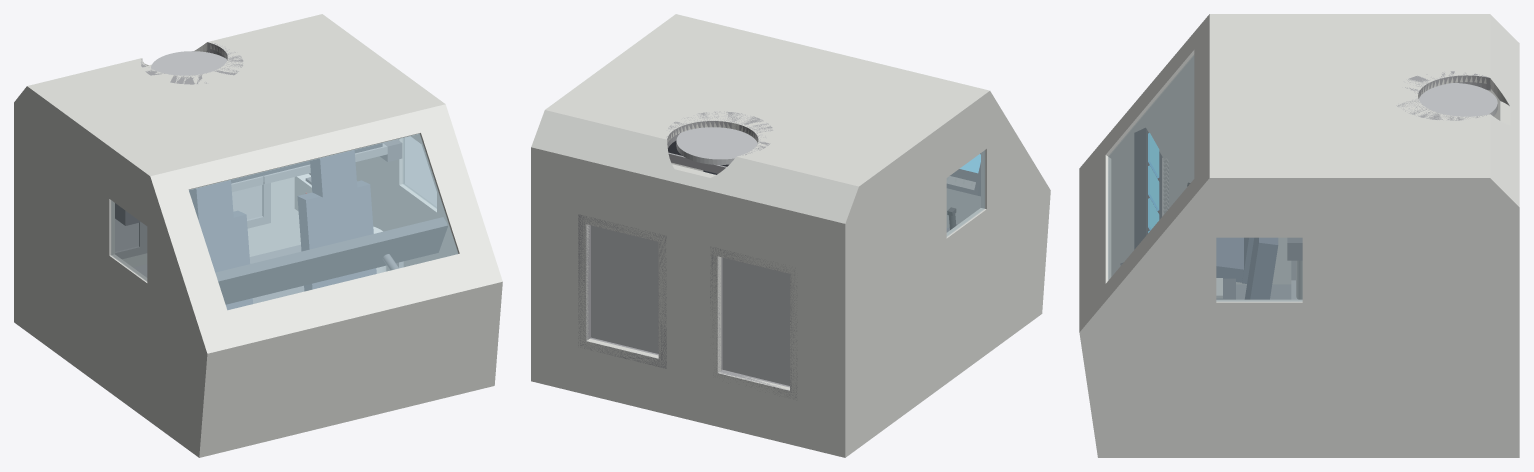
File: rover24_pressurised_cab_m_interior.glb
The picture shows the model from 3 angles, left to right: view 1: azimuth 30°, elevation 25°; view 2: azimuth 150°, elevation 25°; view 3: azimuth 270°, elevation 25°; orthographic projection. The views are drawn at different scales.
Parts seen in each view (by area): view 1: pressure_vessel, window_glass_inner, dash_panel, seat_1, seat_2, hatch_door_3, eq44_1_board, hatch_door_1, hatch_tunnel_3, deck_floor, eq44_1_end_brackets, hatch_door_2 (+1 smaller); view 2: pressure_vessel, hatch_door_1, hatch_door_2, hatch_tunnel_1, hatch_door_3, window_glass_inner, hatch_tunnel_2, hatch_tunnel_3; view 3: pressure_vessel, window_glass_inner, hatch_door_3, dash_panel, seat_1, seat_2, hatch_tunnel_3, dash_panel_screens, deck_floor.
Part boxes in pixels (bbox=[...]): pressure_vessel: bbox=[14, 14, 502, 457]; window_glass_inner: bbox=[111, 133, 458, 309]; dash_panel: bbox=[215, 217, 447, 304]; seat_1: bbox=[297, 150, 376, 291]; seat_2: bbox=[189, 180, 252, 309]; hatch_door_3: bbox=[151, 51, 226, 75]; eq44_1_board: bbox=[231, 143, 387, 191]; hatch_door_1: bbox=[232, 185, 262, 219]; hatch_tunnel_3: bbox=[141, 42, 243, 84]; deck_floor: bbox=[249, 244, 304, 303]; eq44_1_end_brackets: bbox=[115, 139, 402, 225]; hatch_door_2: bbox=[115, 219, 138, 251]; pressure_vessel: bbox=[531, 14, 1050, 457]; hatch_door_1: bbox=[591, 225, 658, 353]; hatch_door_2: bbox=[722, 257, 789, 385]; hatch_tunnel_1: bbox=[578, 214, 666, 368]; hatch_door_3: bbox=[676, 127, 757, 164]; window_glass_inner: bbox=[946, 150, 985, 236]; hatch_tunnel_2: bbox=[710, 246, 797, 400]; hatch_tunnel_3: bbox=[666, 111, 772, 155]; pressure_vessel: bbox=[1079, 14, 1519, 457]; window_glass_inner: bbox=[1108, 55, 1302, 301]; hatch_door_3: bbox=[1418, 83, 1497, 116]; dash_panel: bbox=[1134, 128, 1168, 249]; seat_1: bbox=[1245, 237, 1278, 299]; seat_2: bbox=[1216, 237, 1253, 283]; hatch_tunnel_3: bbox=[1396, 71, 1490, 120]; dash_panel_screens: bbox=[1148, 133, 1159, 232]; deck_floor: bbox=[1236, 284, 1291, 299].
Bounding box in the file's own units: 2.39 × 1.9 × 2.71.
